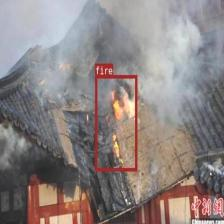fire: (94, 75, 136, 170)
